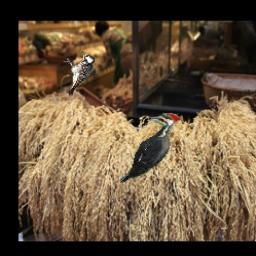Woodpecker: (118, 114, 182, 184), (64, 52, 96, 97)
